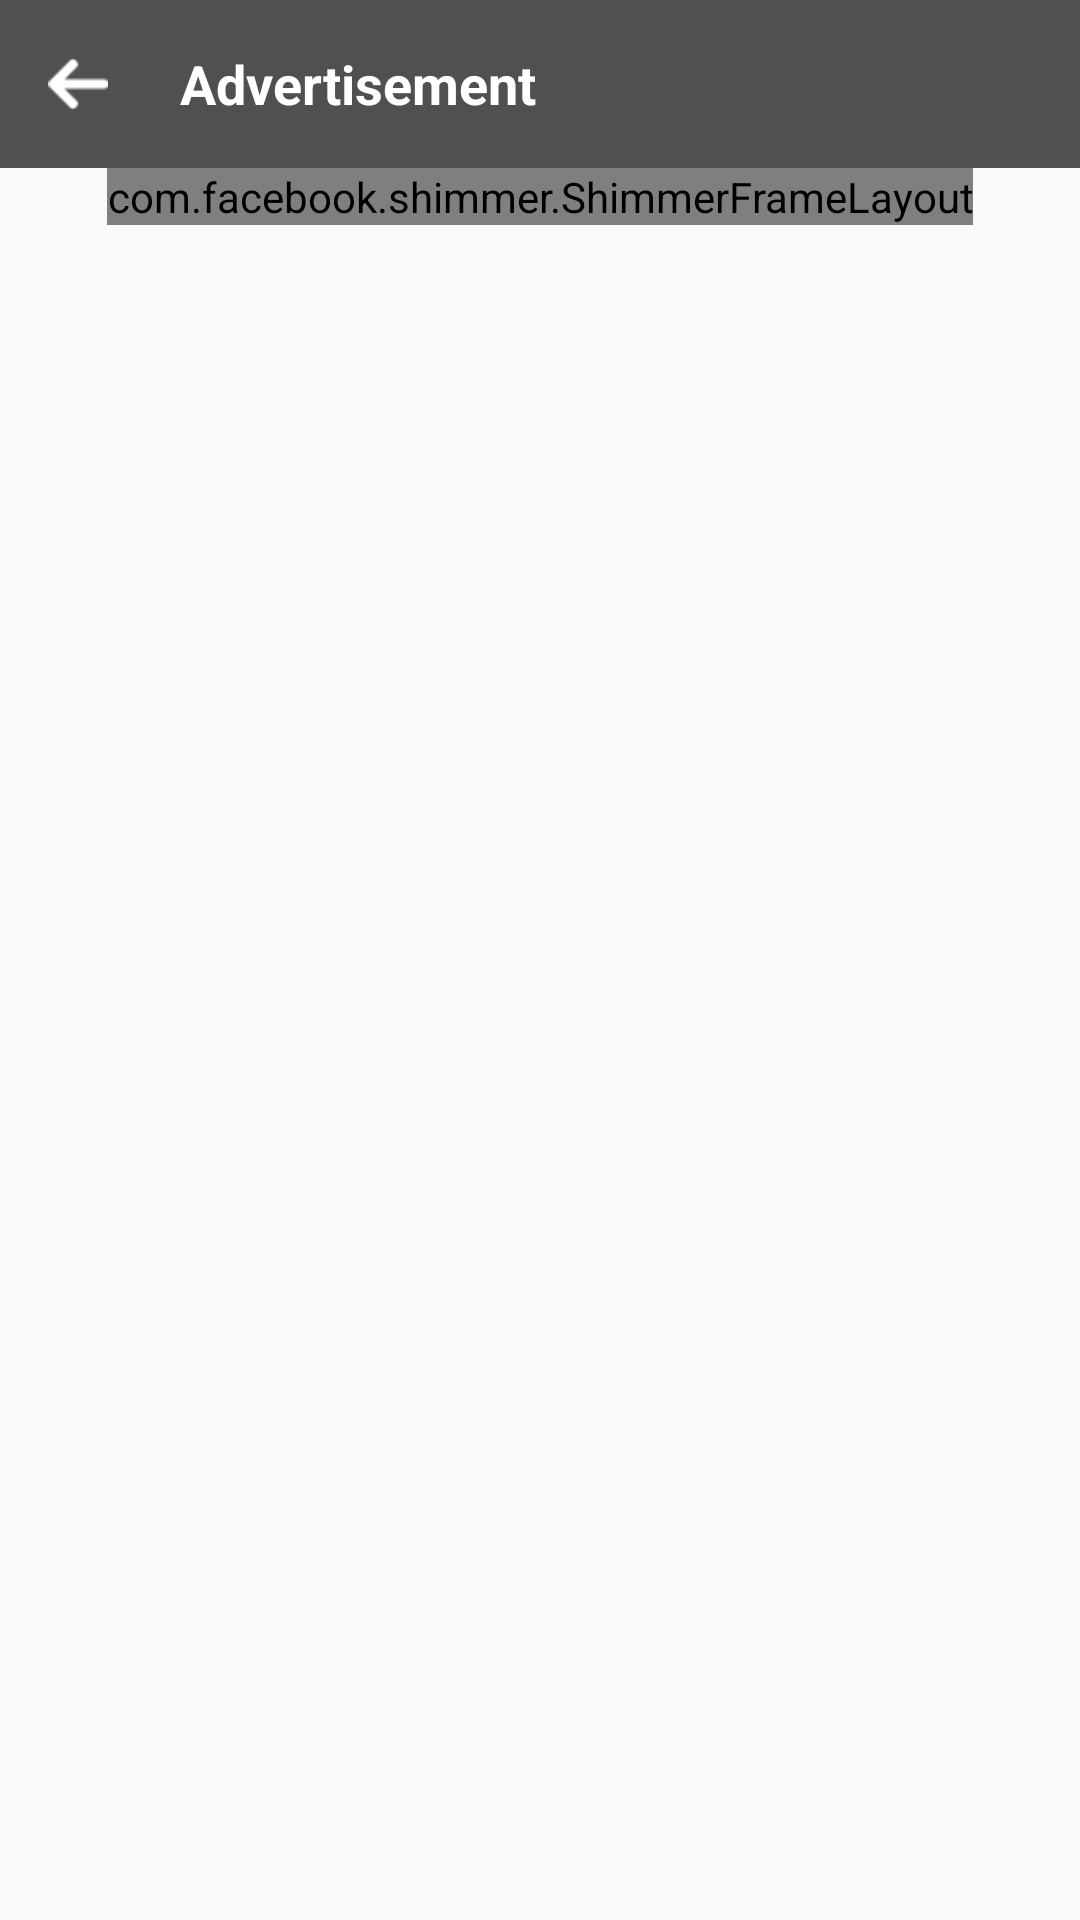

Icons on this 1080×1920 Android screen, each with its box as (x1, y1, x2, y2):
back: (48, 59, 108, 109)
